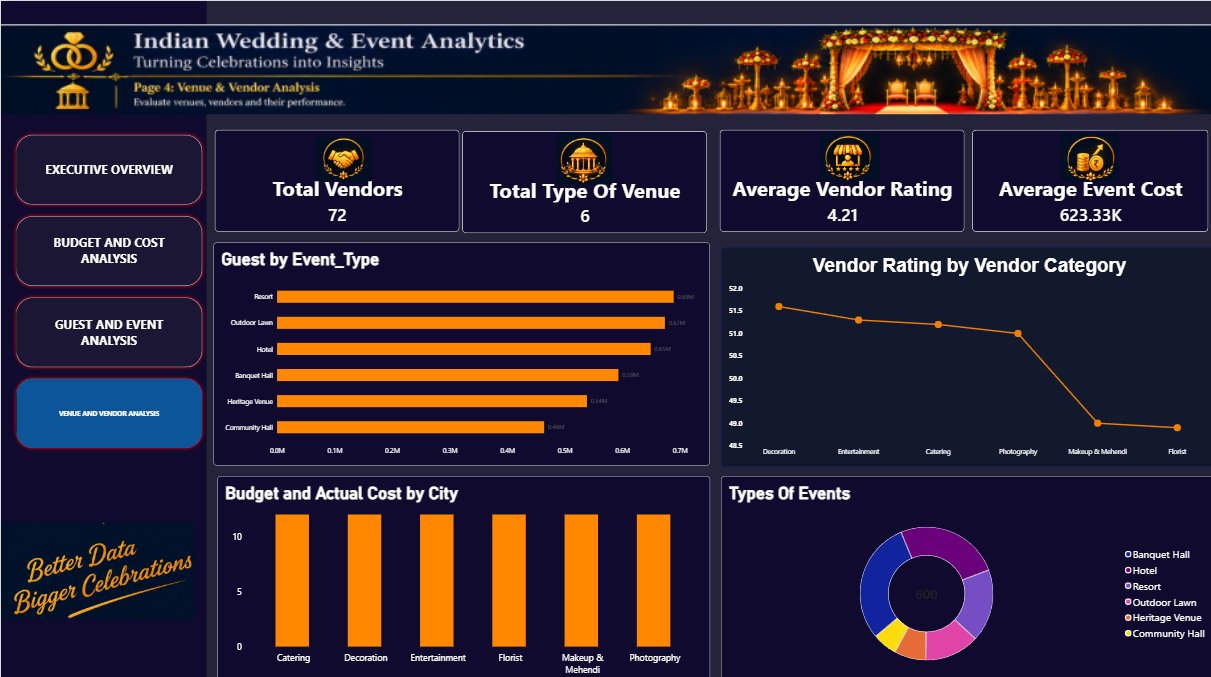

Layout of this report page (visuals, bound fields, positions):
{"tool":"powerbi","page":{"name":"VENUE AND  VENDOR  ANALYSIS","canvas":[2560,1440],"ordinal":3},"visuals":[{"type":"lineChart","fields":{"Category":["Dim_Vendor.Vendor_Category"],"Y":["Sum(Dim_Vendor.Vendor_Rating)"]},"box":[1515,517.5,1045,462.5],"z":0},{"type":"textbox","box":[0,0,432.5,1440],"z":1000},{"type":"pageNavigator","box":[0,259.5,408.1,678.4],"z":2000},{"type":"image","box":[0,1012.5,407.5,375],"z":4000},{"type":"cardVisual","fields":{"Data":["Dim_Vendor.Vendor Count"]},"box":[448.7,271.8,515,215],"z":7000},{"type":"cardVisual","fields":{"Data":["Events.Average Vendor Rating"]},"box":[1512.8,271.8,515,215],"z":8000},{"type":"cardVisual","fields":{"Data":["Events.Average Event Cost"]},"box":[2043.6,271.8,497.4,215.4],"z":9000},{"type":"cardVisual","fields":{"Data":["Dim_Venue.Venue Type Count"]},"box":[970,272.5,515,215],"z":10000},{"type":"barChart","title":"Guest by Event_Type","fields":{"Y":["Events.Average Event Cost"],"Category":["Dim_Venue.Venue_Type"]},"box":[447.7,509.1,1045,470],"z":11000},{"type":"donutChart","title":"Event by Event_Type","fields":{"Y":["Events.Total Event"],"Category":["Dim_Venue.Venue_Type"]},"box":[1515,1000,1045,440],"z":12000},{"type":"columnChart","title":"Budget and  Actual Cost by City","fields":{"Y":["Dim_Vendor.Total Vendors"],"Category":["Dim_Vendor.Vendor_Category"]},"box":[455,1000,1037.5,440],"z":13000},{"type":"image","box":[630,287.5,182.5,92.5],"z":13001},{"type":"image","box":[1157.5,280,140,107.5],"z":13002},{"type":"image","box":[1715,280,142.5,100],"z":13003},{"type":"image","box":[2210,280,162.5,100],"z":13004},{"type":"image","box":[0,0,2560.5,271.1],"z":13005}]}

Visuals, with their boxes in screenshot pixels (x1, y1, x2, y2), scaled from the page's 2560x1440 canvas onto the 1211x677 screenshot:
lineChart - Dim_Vendor.Vendor_Category x Sum(Dim_Vendor.Vendor_Rating): x1=717, y1=243, x2=1210, y2=461
textbox: x1=0, y1=0, x2=205, y2=676
pageNavigator: x1=0, y1=122, x2=193, y2=441
image: x1=0, y1=476, x2=193, y2=652
cardVisual - Dim_Vendor.Vendor Count: x1=212, y1=128, x2=456, y2=229
cardVisual - Events.Average Vendor Rating: x1=716, y1=128, x2=959, y2=229
cardVisual - Events.Average Event Cost: x1=967, y1=128, x2=1202, y2=229
cardVisual - Dim_Venue.Venue Type Count: x1=459, y1=128, x2=702, y2=229
"Guest by Event_Type" barChart: x1=212, y1=239, x2=706, y2=460
"Event by Event_Type" donutChart: x1=717, y1=470, x2=1210, y2=676
"Budget and  Actual Cost by City" columnChart: x1=215, y1=470, x2=706, y2=676
image: x1=298, y1=135, x2=384, y2=179
image: x1=548, y1=132, x2=614, y2=182
image: x1=811, y1=132, x2=879, y2=179
image: x1=1045, y1=132, x2=1122, y2=179
image: x1=0, y1=0, x2=1210, y2=127
